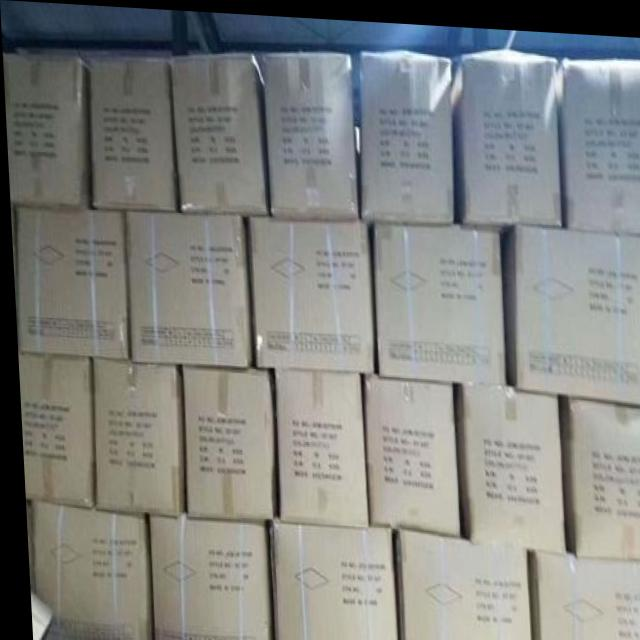box: (495, 219, 640, 397), (368, 217, 501, 377), (245, 211, 372, 370), (447, 375, 561, 550), (449, 42, 559, 220), (122, 211, 248, 365), (12, 206, 125, 359), (24, 502, 148, 640), (261, 52, 360, 216), (261, 517, 393, 640), (360, 45, 453, 219), (385, 525, 524, 640), (171, 49, 268, 211), (359, 373, 457, 531), (145, 514, 267, 640), (270, 371, 365, 525), (88, 357, 179, 516), (557, 52, 640, 226), (178, 365, 270, 520), (88, 49, 177, 209), (3, 50, 90, 205), (559, 388, 640, 553), (14, 352, 88, 508), (520, 546, 640, 640)
